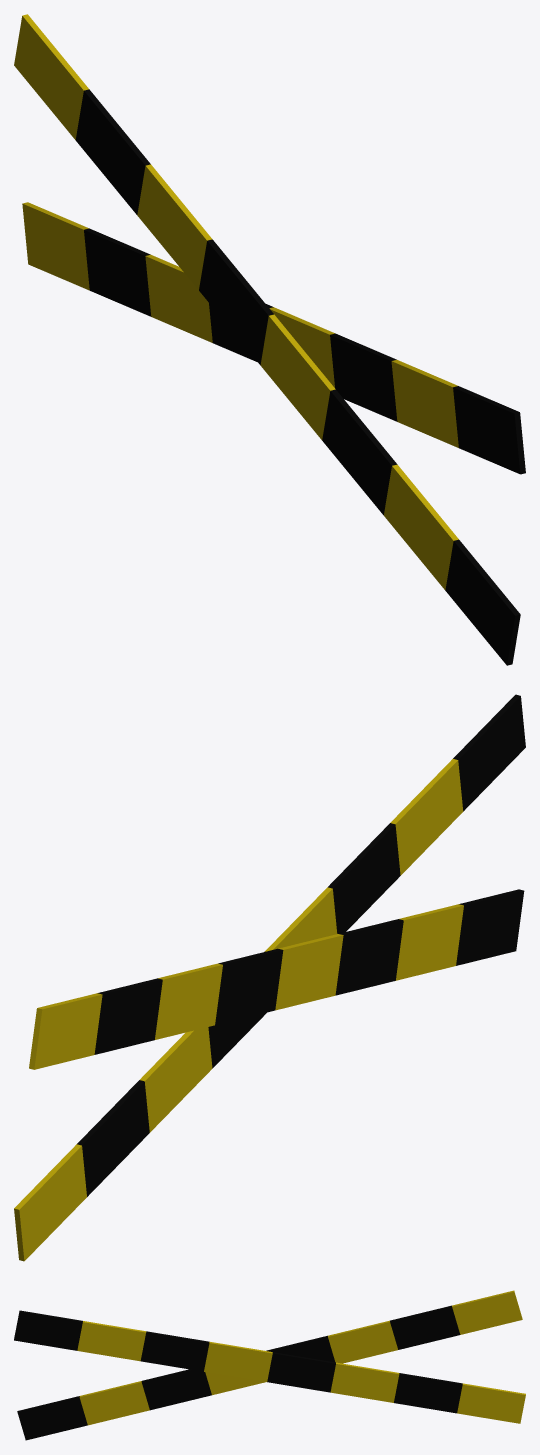
Rendered from Under Construction Tape.glb.
The picture shows the model from 3 angles, top to bottom: view 1: azimuth 30°, elevation 25°; view 2: azimuth 150°, elevation 25°; view 3: azimuth 270°, elevation 25°; orthographic projection. The views are drawn at different scales.
Visible parts, largest first — view 1: Under Construnction Tape, Under Construnction Tape.001; view 2: Under Construnction Tape, Under Construnction Tape.001; view 3: Under Construnction Tape.001, Under Construnction Tape.
Boxes of the visible parts, x1,y1,x2,y2 form: Under Construnction Tape: (14, 14, 520, 665); Under Construnction Tape.001: (22, 202, 525, 474); Under Construnction Tape: (29, 889, 524, 1069); Under Construnction Tape.001: (14, 694, 525, 1261); Under Construnction Tape.001: (14, 1310, 525, 1423); Under Construnction Tape: (17, 1290, 522, 1440).
Bounding box in the file's own units: 0.0641 × 1.02 × 3.19.
